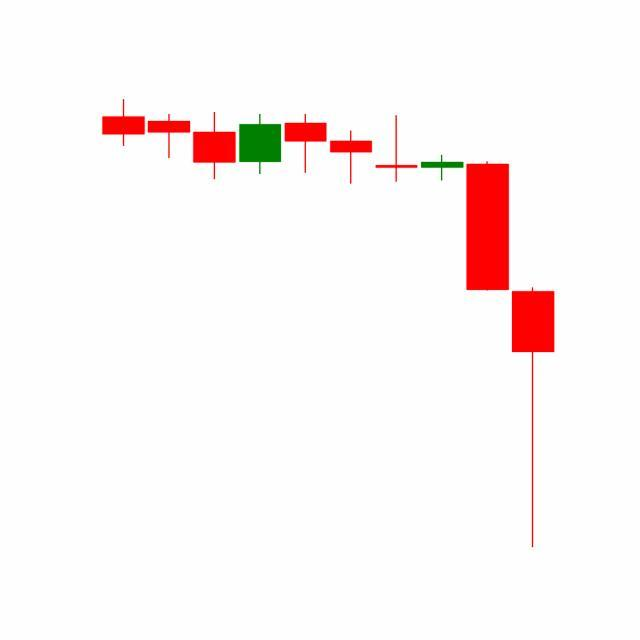Hikkake Pattern: (283, 113, 512, 294)
